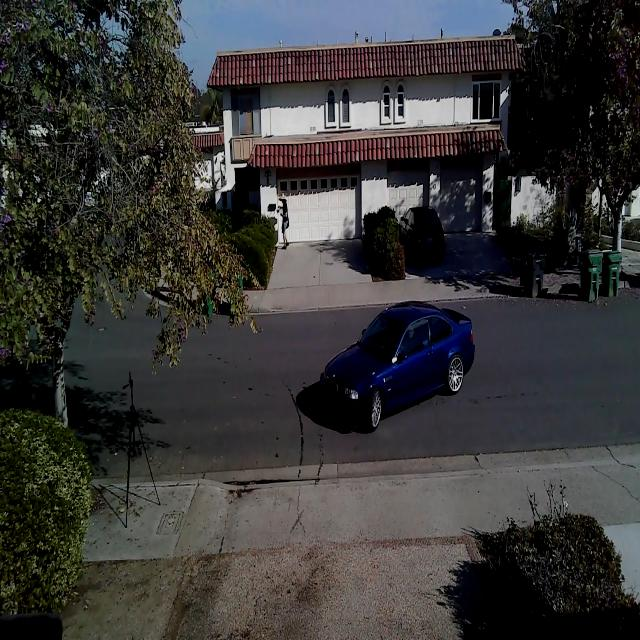Carbeetle: (312, 296, 484, 435)
Civilian: (399, 205, 445, 263)
